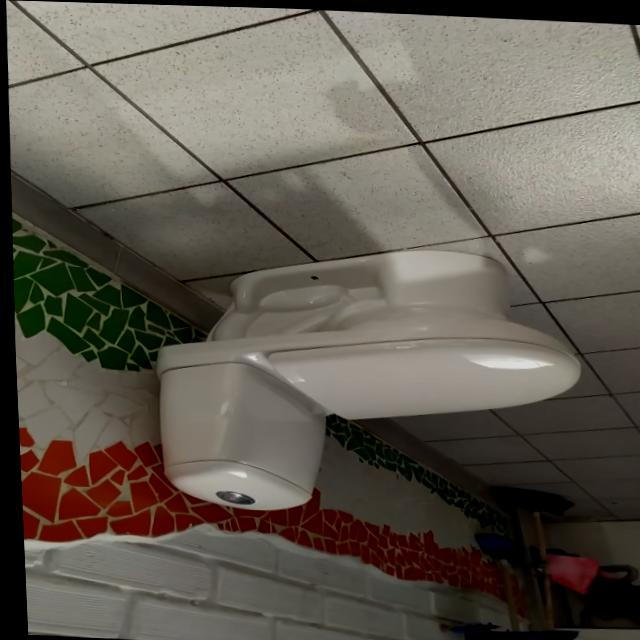toilet: (143, 235, 584, 523)
